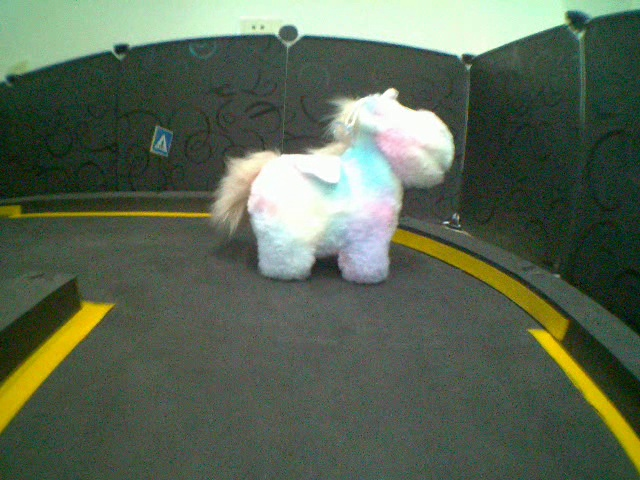unicorn: (214, 81, 456, 288)
